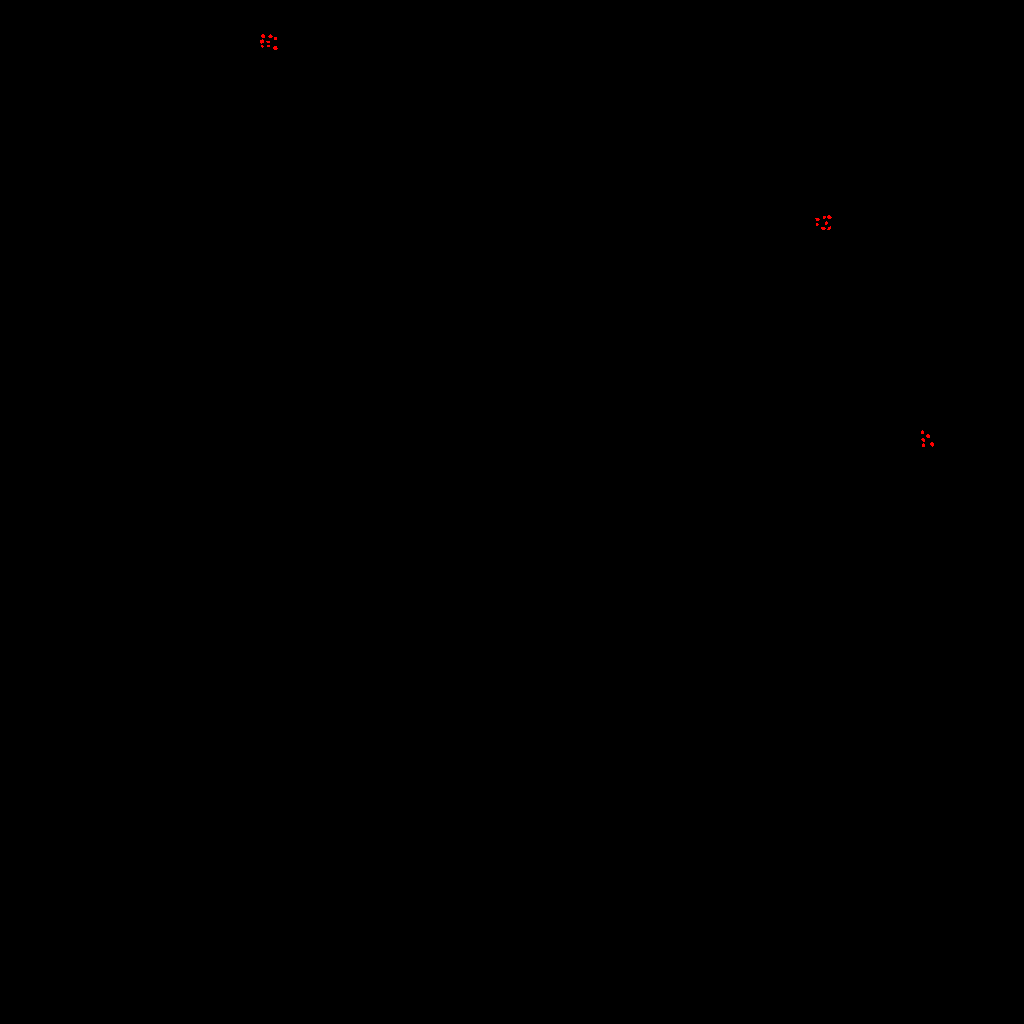Target: (268, 34, 273, 38), (260, 39, 264, 44), (273, 46, 278, 50), (827, 215, 832, 219), (930, 442, 934, 447), (261, 34, 265, 38), (827, 226, 831, 230), (926, 434, 930, 438), (921, 438, 925, 442), (815, 218, 820, 221), (821, 227, 826, 230), (825, 221, 828, 225), (921, 430, 924, 434), (922, 443, 925, 447), (274, 37, 277, 40), (261, 45, 264, 48), (823, 216, 826, 219), (816, 223, 819, 226), (266, 41, 270, 43), (267, 45, 270, 47)
